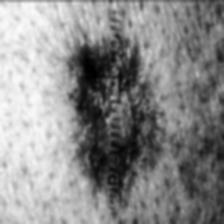Potentially Malignant Skin Tumors: (60, 43, 104, 112)
